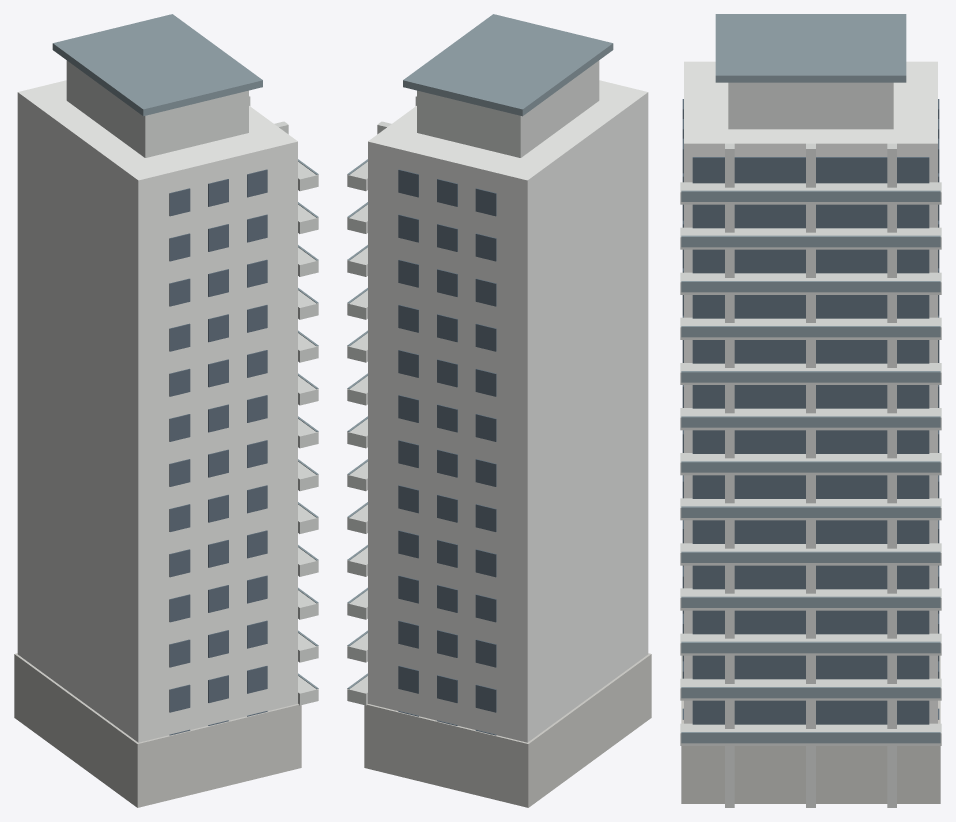
File: rambla_building_19.glb
The picture shows the model from 3 angles, left to right: view 1: azimuth 30°, elevation 25°; view 2: azimuth 150°, elevation 25°; view 3: azimuth 270°, elevation 25°; orthographic projection. The views are drawn at different scales.
Parts seen in each view (by area): view 1: RamblaBuilding_19; view 2: RamblaBuilding_19; view 3: RamblaBuilding_19.
Part boxes in pixels (x1=…): RamblaBuilding_19: x1=14, y1=14, x2=318, y2=807; RamblaBuilding_19: x1=347, y1=14, x2=651, y2=807; RamblaBuilding_19: x1=680, y1=14, x2=941, y2=807.
Bounding box in the file's own units: 12.47 × 44.83 × 14.8.
